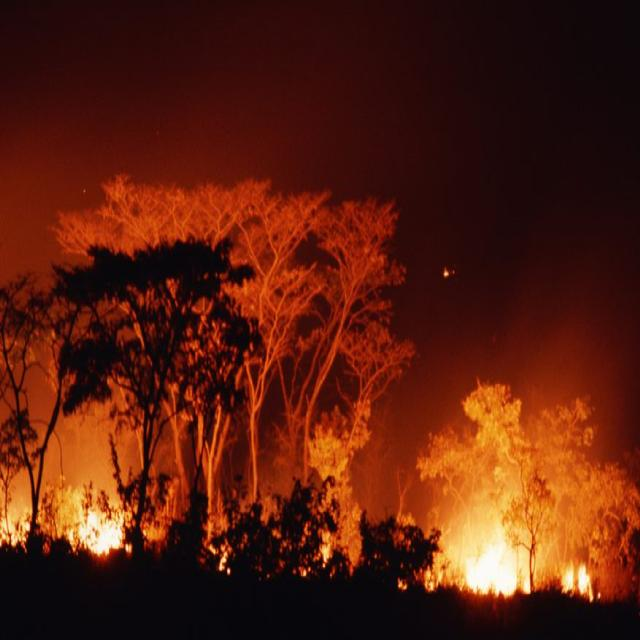Fire: (453, 518, 595, 610), (2, 484, 144, 572)
